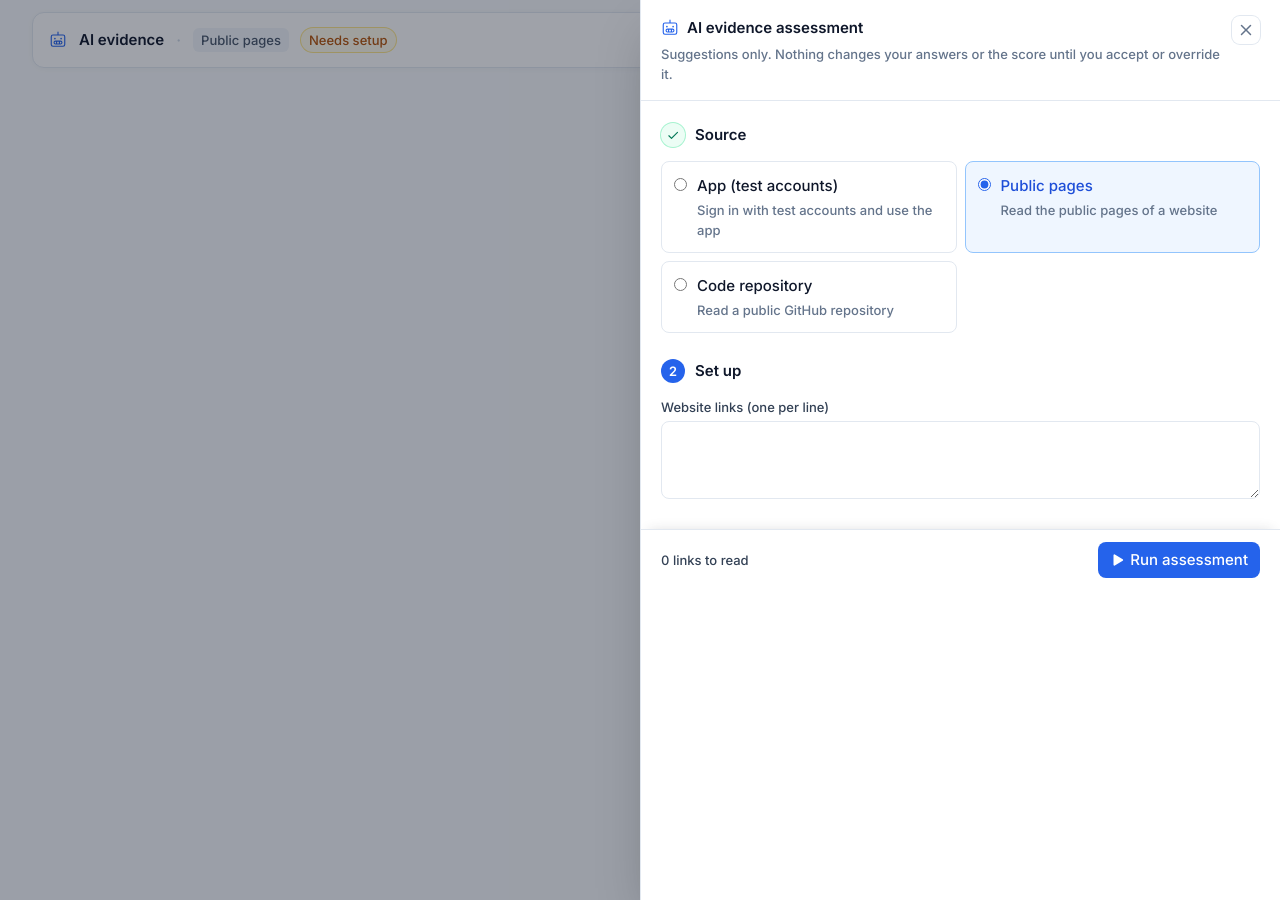
Test: App source in the evidence panel › switches between App and Public pages; Public pages shows the existing link form unchanged
Earlier steps of the test are not shown.
Click the radio button labelled "App (test accounts)". click: (680, 184)
box: [674,178,687,191]
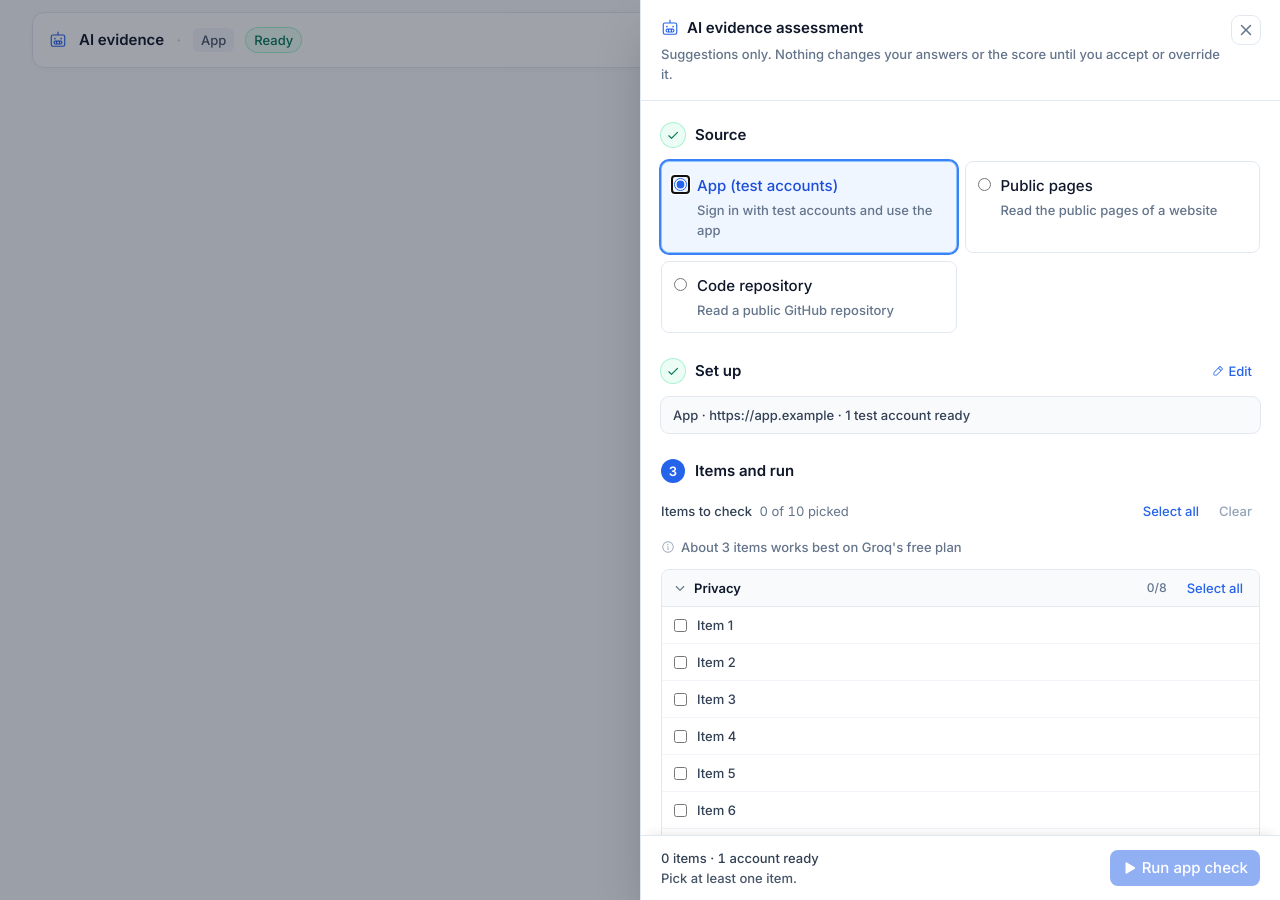
Expected: the button with aria-label "Edit set-up" is shown
Click the button with aria-label "Edit set-up". click: (1232, 371)
box: [1204,357,1260,385]
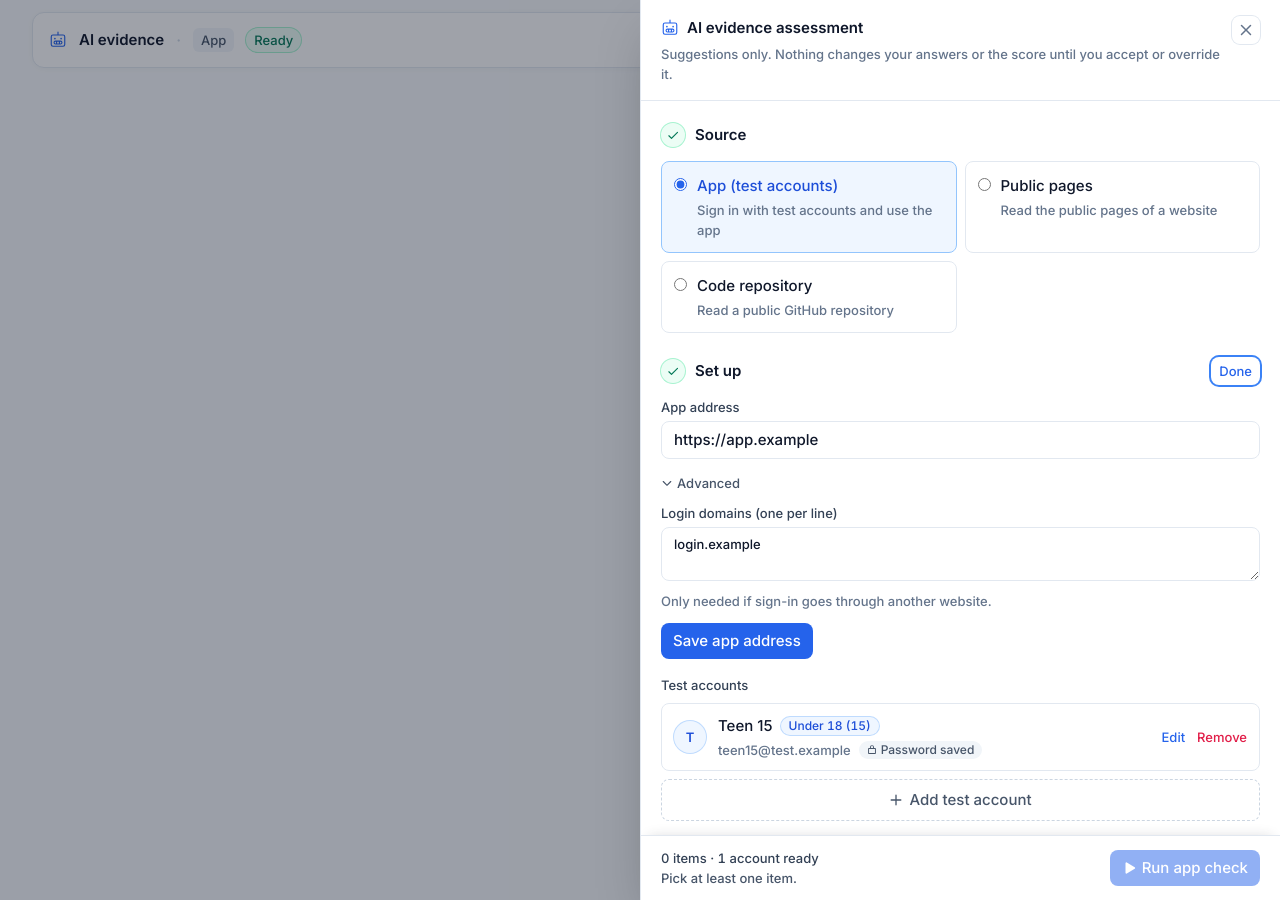
Expected: the label labelled "Website links" is not shown
Expected: the field labelled "App address" is shown, [661,421,1260,459]
Click the radio button labelled "Public pages Read the public pages of a website". click: (984, 184)
box: [978,178,990,191]
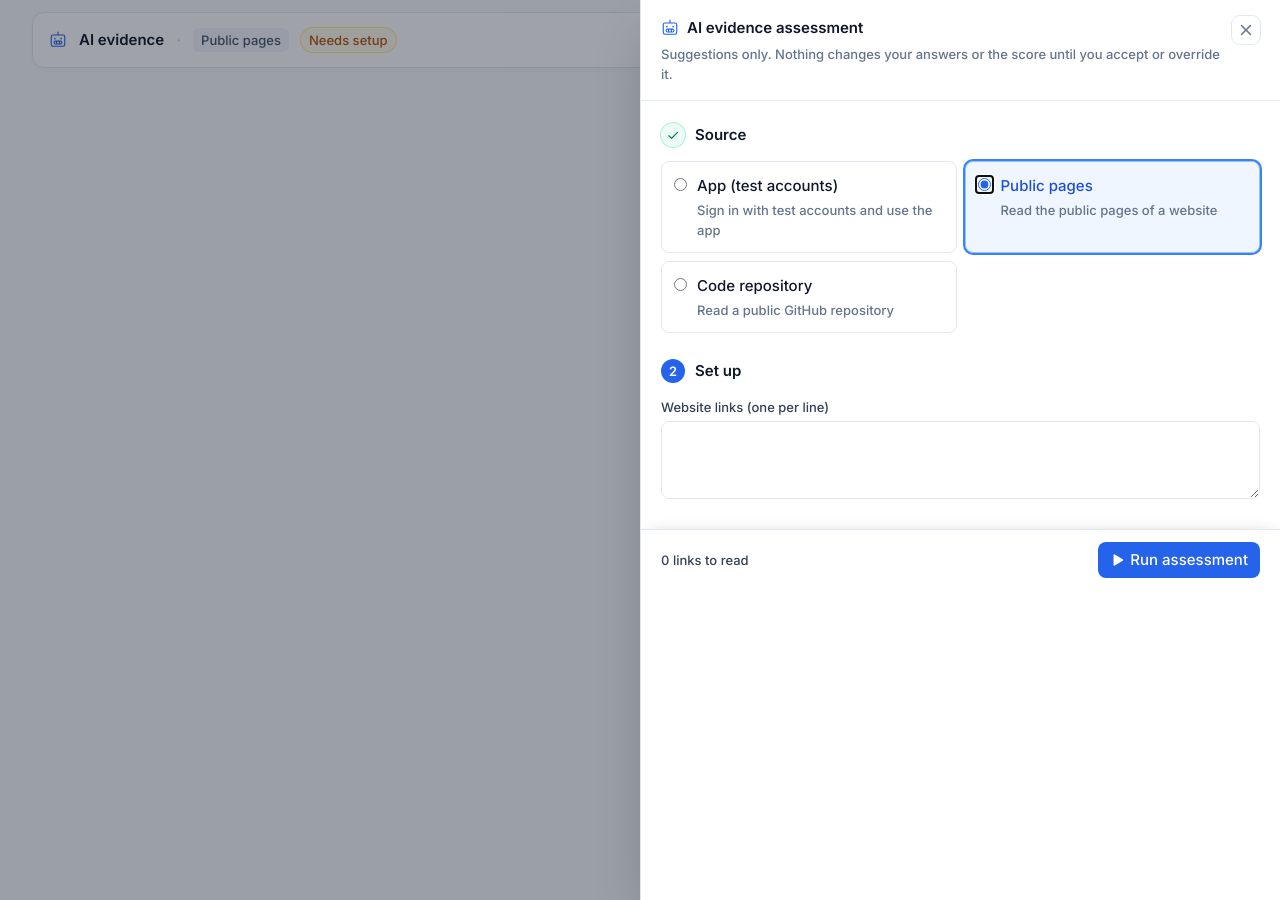
Expected: the text box labelled "Website links (one per line)" is shown, [661,421,1260,499]
Expected: the button "Run assessment" is shown, [1098,542,1260,578]
